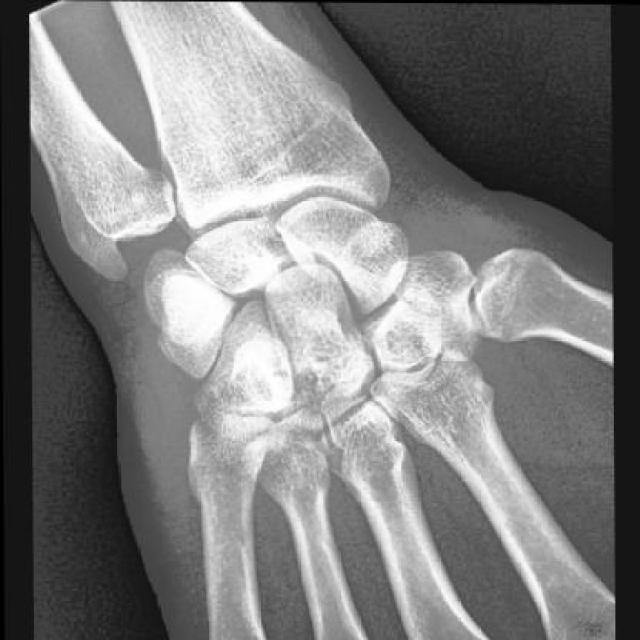Fracture: (359, 310, 438, 395)
